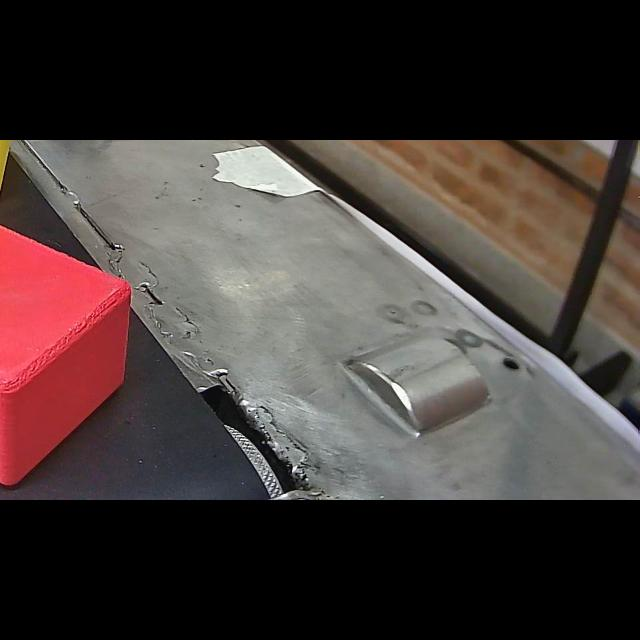redBox: (0, 198, 144, 494)
yellowBox: (0, 140, 22, 210)
